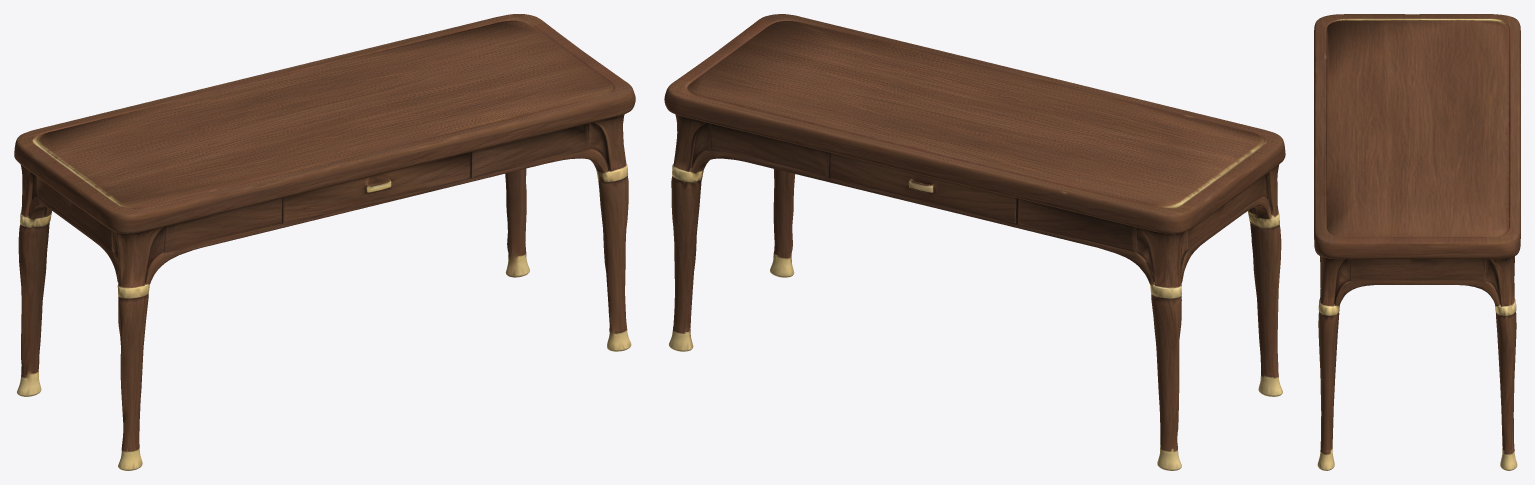
The model's file is desk-v1.glb.
3 renders of one model, left to right at view 1: azimuth 30°, elevation 25°; view 2: azimuth 150°, elevation 25°; view 3: azimuth 270°, elevation 25°, orthographic. The views are drawn at different scales.
Visible parts, largest first — view 1: desk metre normalization; view 2: desk metre normalization; view 3: desk metre normalization.
Boxes of the visible parts, x1,y1,x2,y2 form: desk metre normalization: [14, 14, 635, 470]; desk metre normalization: [664, 14, 1285, 470]; desk metre normalization: [1314, 14, 1520, 470].
Bounding box in the file's own units: 1.9 × 0.89 × 0.72.
Materials: 1 (1 with a texture image).
